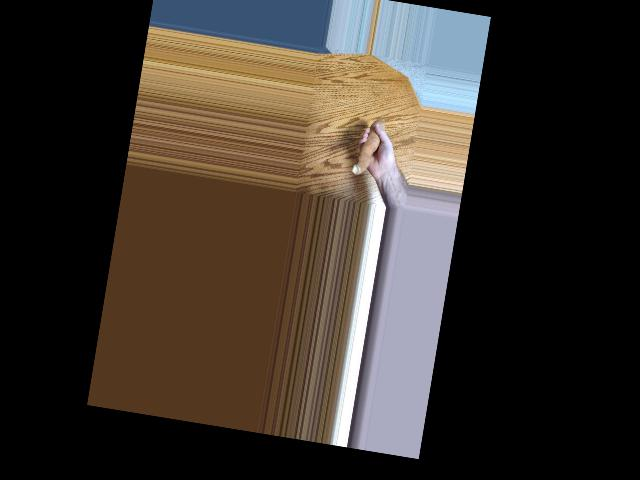sweet_potato: (351, 114, 385, 181)
